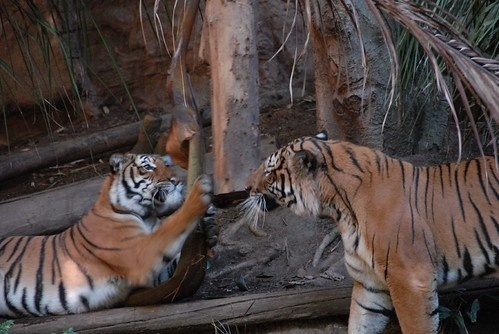tigre: (248, 133, 499, 331), (1, 152, 214, 309)
